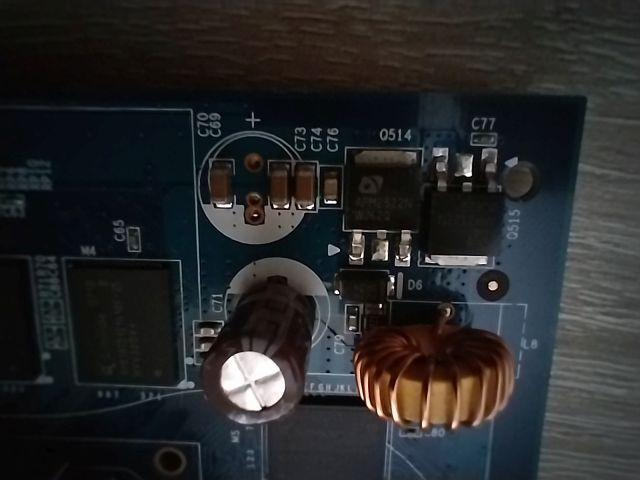capacitor: (196, 154, 245, 220), (258, 165, 290, 219), (294, 163, 324, 218), (321, 167, 350, 214), (190, 318, 228, 339), (346, 308, 366, 336), (194, 340, 215, 352)
